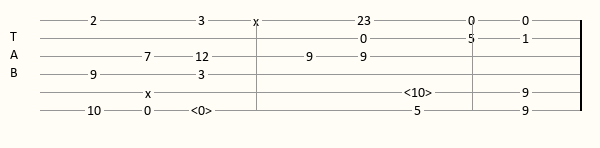0: (144, 104, 155, 117), (360, 32, 371, 45), (468, 14, 479, 27), (522, 14, 533, 27)
1: (522, 32, 533, 45)
10: (87, 104, 105, 117)
12: (195, 50, 213, 63)
2: (90, 14, 101, 27)
23: (357, 14, 375, 27)
3: (198, 14, 209, 27), (198, 68, 209, 81)
5: (414, 104, 425, 117), (468, 32, 479, 45)
7: (144, 50, 155, 63)
9: (90, 68, 101, 81), (306, 50, 317, 63), (360, 50, 371, 63), (522, 86, 533, 99), (522, 104, 533, 117)
harmonic: (404, 86, 436, 99), (191, 104, 216, 117)
x: (145, 87, 155, 98), (253, 15, 263, 26)
